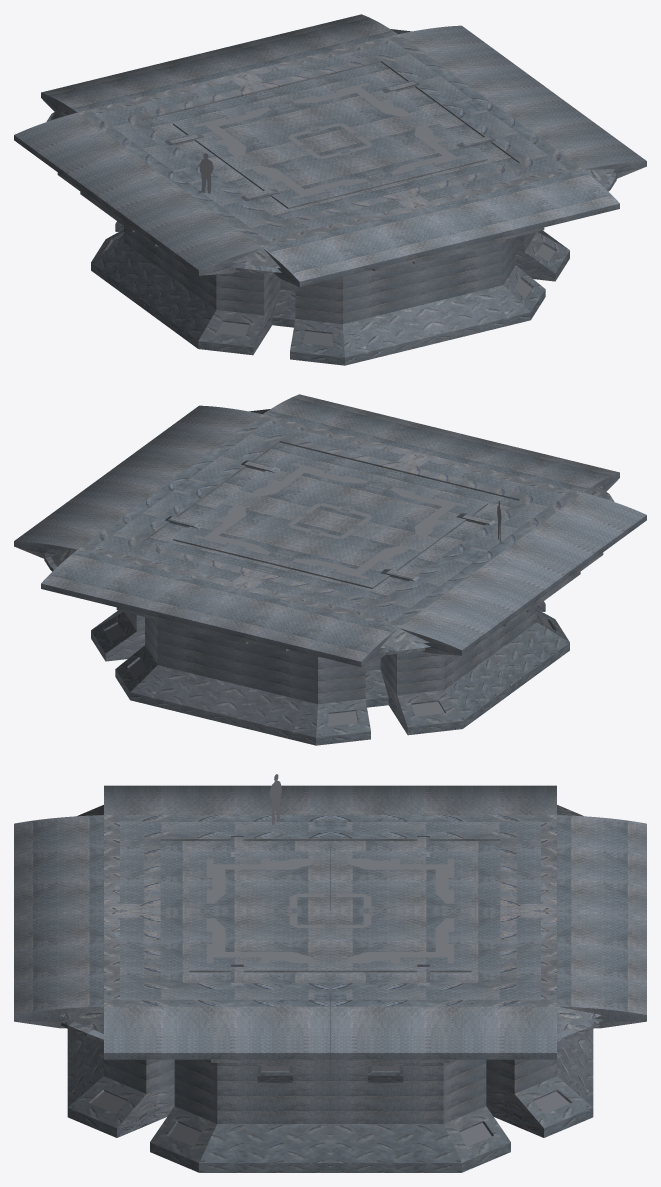
3 views of the same model, one above another, from view 1: azimuth 30°, elevation 25°; view 2: azimuth 150°, elevation 25°; view 3: azimuth 270°, elevation 25° (orthographic). The views are drawn at different scales.
Visible parts, largest first — view 1: hov_platform_001, hov_platform_002, hov_platform_004, hov_platform_003; view 2: hov_platform_004, hov_platform_003, hov_platform_001, hov_platform_002; view 3: hov_platform_003, hov_platform_002, hov_platform_004, hov_platform_001.
Boxes of the visible parts, x1=… form: hov_platform_001: x1=106, y1=141, x2=459, y2=365; hov_platform_002: x1=331, y1=93, x2=646, y2=342; hov_platform_004: x1=14, y1=53, x2=329, y2=309; hov_platform_003: x1=201, y1=14, x2=553, y2=140; hov_platform_004: x1=201, y1=521, x2=554, y2=745; hov_platform_003: x1=14, y1=473, x2=329, y2=722; hov_platform_001: x1=331, y1=433, x2=646, y2=689; hov_platform_002: x1=107, y1=394, x2=459, y2=520; hov_platform_003: x1=330, y1=911, x2=646, y2=1172; hov_platform_002: x1=14, y1=911, x2=330, y2=1172; hov_platform_004: x1=330, y1=785, x2=646, y2=1051; hov_platform_001: x1=14, y1=785, x2=330, y2=1051.
Size of the model in its own units: 808 by 281 by 808.
Materials: 4 (4 with a texture image).
